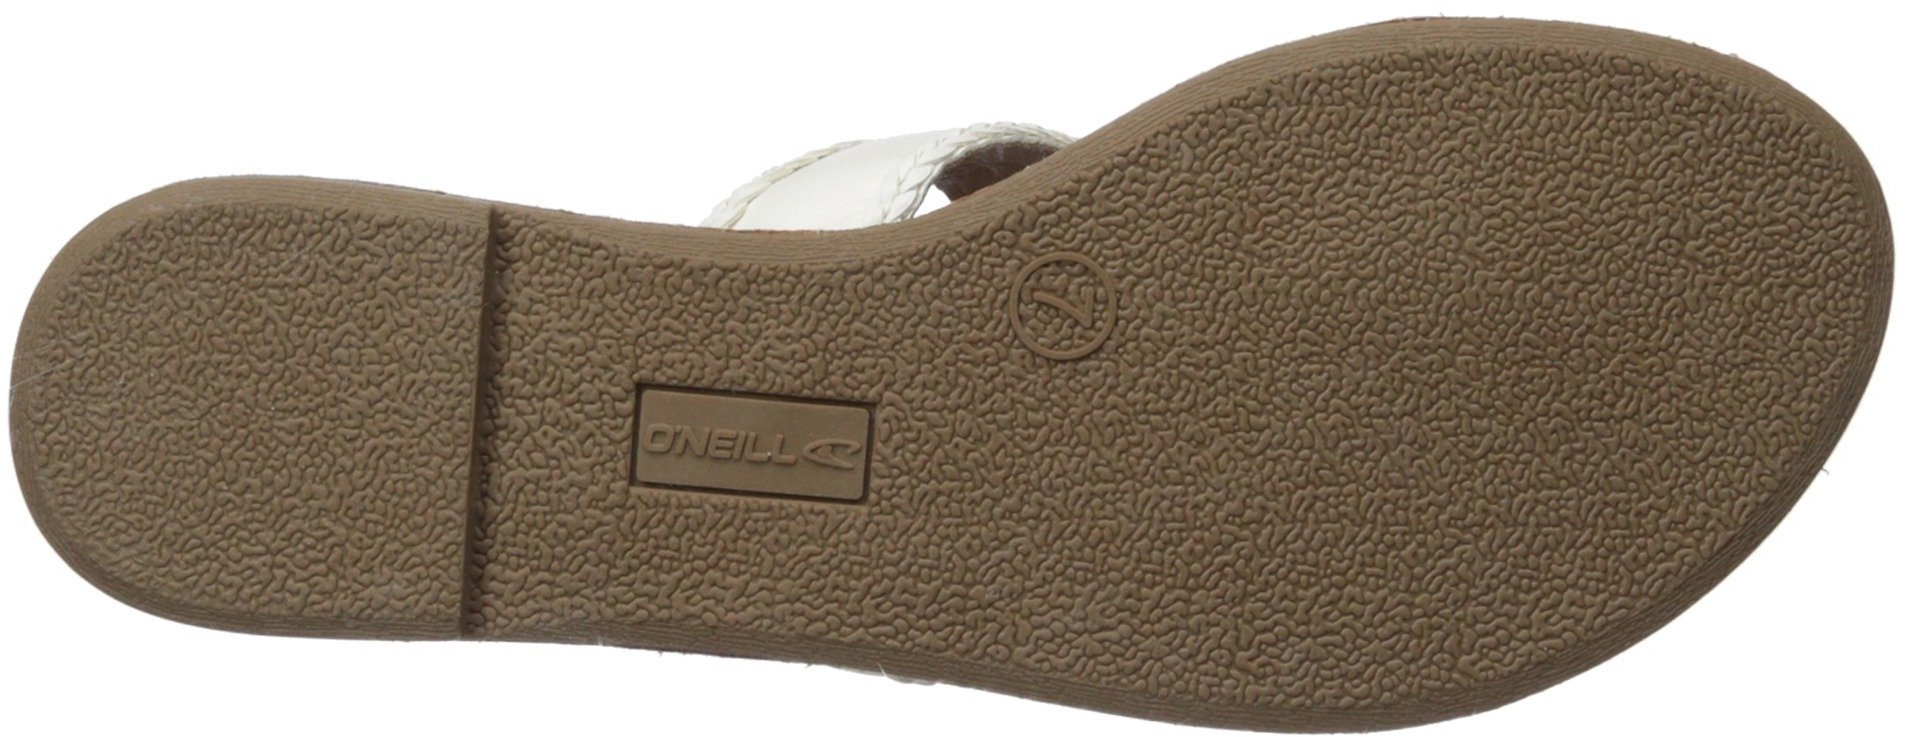circle: (619, 365, 882, 530), (993, 242, 1125, 378)
other: (1372, 66, 1752, 444), (984, 390, 1258, 678), (1134, 146, 1366, 384), (70, 268, 282, 495), (1335, 458, 1564, 666), (288, 243, 473, 428), (288, 431, 463, 587), (494, 486, 637, 622), (510, 253, 630, 382), (844, 519, 971, 639), (849, 268, 972, 392)
quad: (619, 365, 882, 530)
text: (619, 365, 882, 530), (993, 242, 1125, 378), (732, 401, 830, 493), (643, 412, 722, 491), (1026, 264, 1107, 339)
